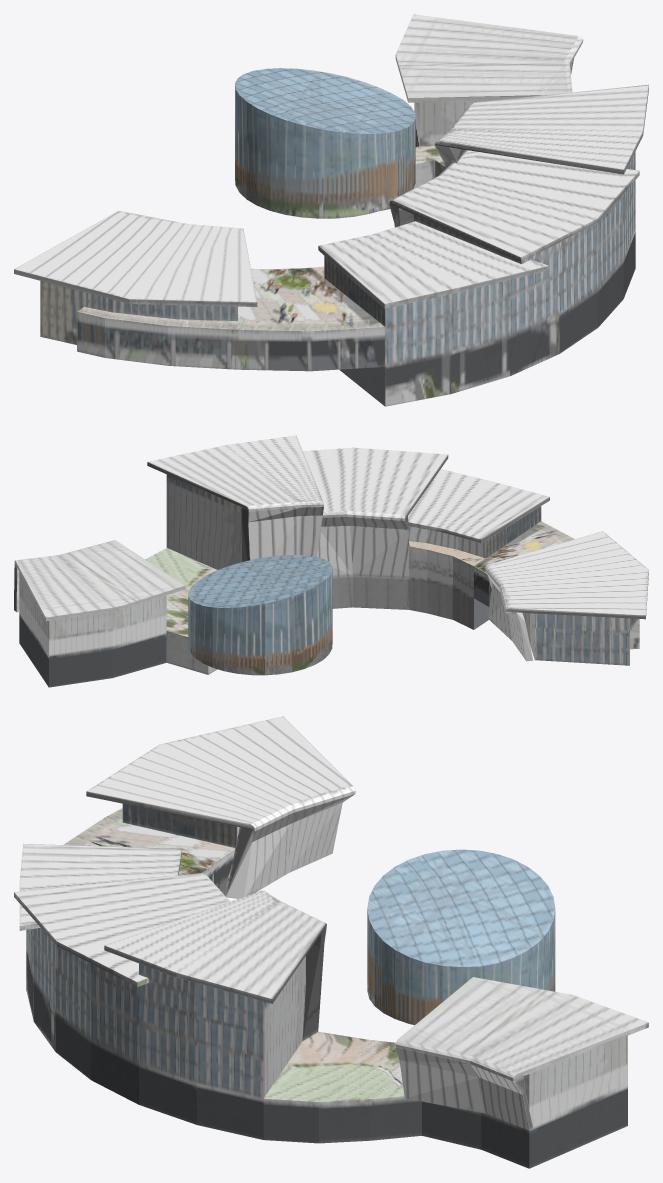
File: ICJ00011.glb
The picture shows the model from 3 angles, top to bottom: view 1: azimuth 30°, elevation 25°; view 2: azimuth 150°, elevation 25°; view 3: azimuth 270°, elevation 25°; orthographic projection. The views are drawn at different scales.
Visible parts, largest first — view 1: MainBuilding; view 2: MainBuilding; view 3: MainBuilding.
Part boxes in pixels (x1,y1,x2,y2): MainBuilding: (14,14,648,406); MainBuilding: (14,435,648,687); MainBuilding: (14,716,648,1168).
Size of the model in its own units: 359 by 73.34 by 279.
Materials: 1 (1 with a texture image).
